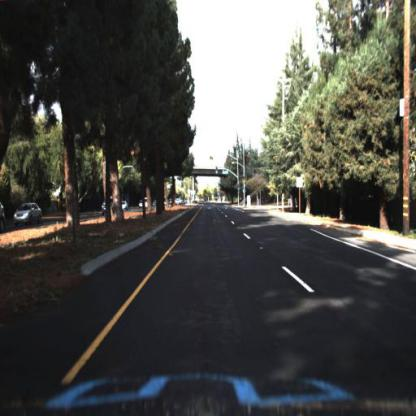car: (15, 201, 43, 229)
